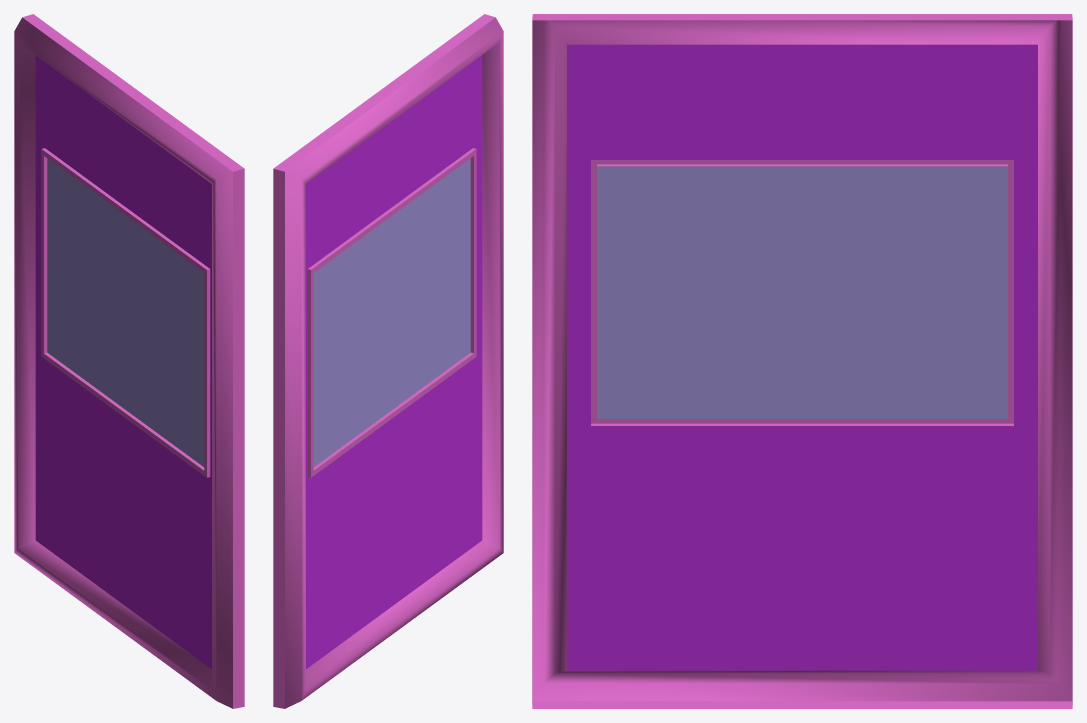
File: pictureB.fbx
3 renders of one model, left to right at view 1: azimuth 30°, elevation 25°; view 2: azimuth 150°, elevation 25°; view 3: azimuth 270°, elevation 25°, orthographic. The views are drawn at different scales.
Visible parts, largest first — view 1: pictureB; view 2: pictureB; view 3: pictureB.
Boxes of the visible parts, <box> form: pictureB: <box>14,14,244,708</box>; pictureB: <box>273,14,503,708</box>; pictureB: <box>532,14,1072,708</box>.
Bounding box in the file's own units: 2.35 × 51.2 × 36.43.
